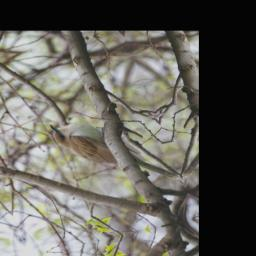Cuckoo: (49, 102, 183, 203)
